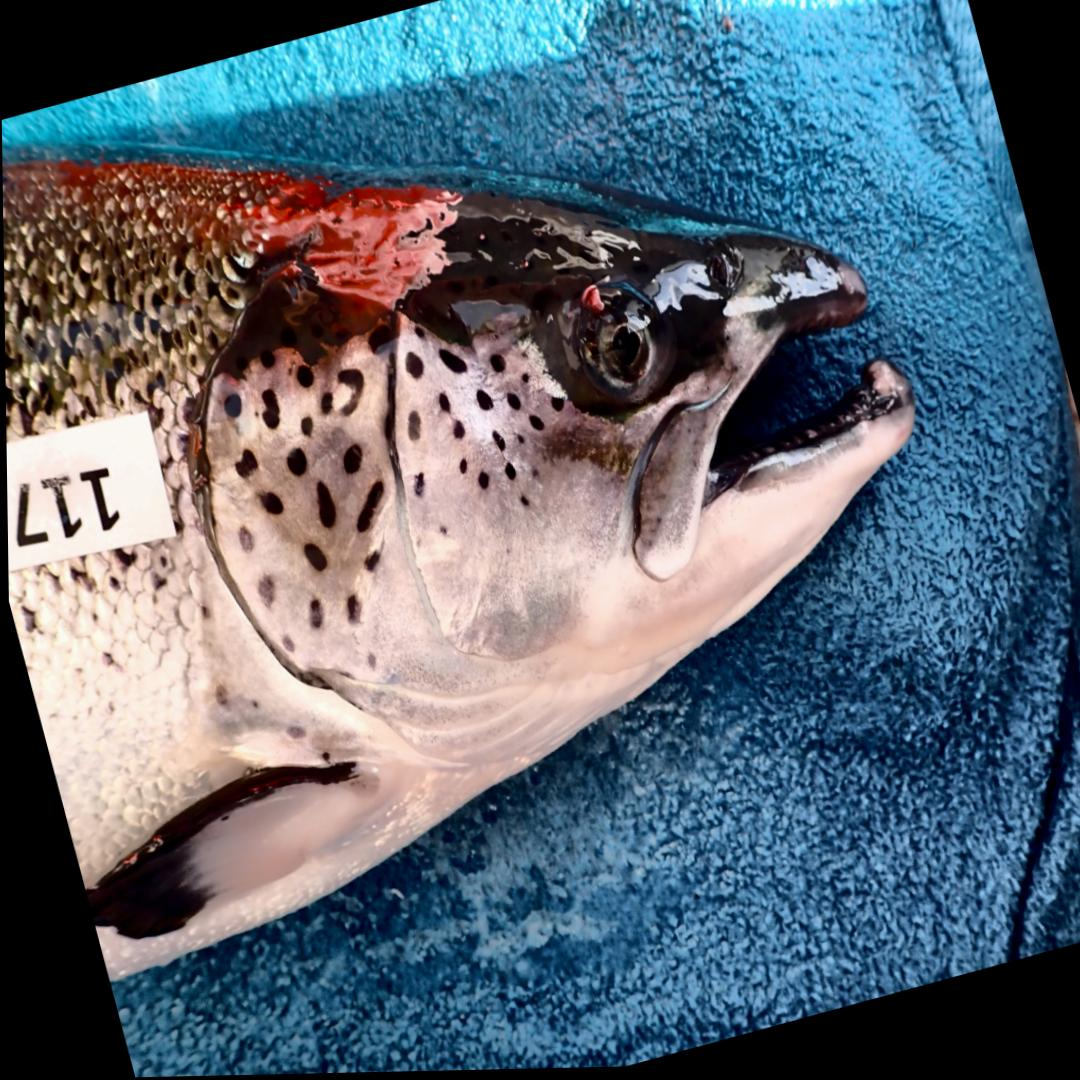spot: (354, 481, 382, 534), (335, 368, 362, 417), (313, 481, 334, 527), (365, 324, 395, 355), (259, 389, 277, 431), (436, 349, 464, 375), (339, 444, 361, 476), (301, 543, 324, 572), (232, 449, 255, 478), (283, 447, 305, 476), (256, 491, 281, 515), (254, 576, 272, 607), (402, 353, 422, 380), (220, 392, 239, 419), (306, 600, 320, 630), (294, 365, 312, 388), (343, 596, 358, 623), (235, 526, 250, 552), (405, 411, 418, 441), (474, 390, 490, 413), (360, 552, 375, 574), (489, 431, 503, 453), (318, 390, 330, 415), (488, 355, 503, 373), (526, 415, 541, 432), (258, 351, 273, 368), (278, 634, 292, 652), (411, 475, 422, 497), (436, 394, 448, 414), (504, 394, 518, 411), (298, 418, 311, 436), (449, 422, 462, 440), (474, 473, 486, 491), (548, 397, 562, 412), (363, 652, 374, 671), (502, 464, 513, 482), (411, 327, 423, 340), (456, 460, 465, 476), (517, 496, 528, 508), (527, 471, 536, 480), (436, 526, 444, 536), (514, 435, 522, 444), (519, 375, 526, 385)
